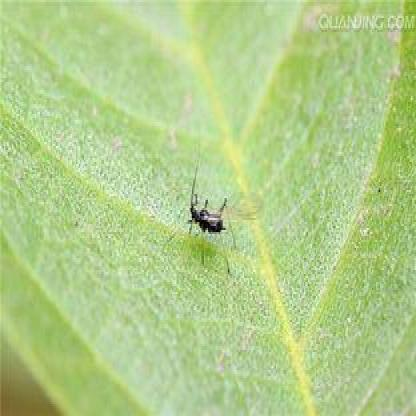aphid: (182, 168, 239, 264)
